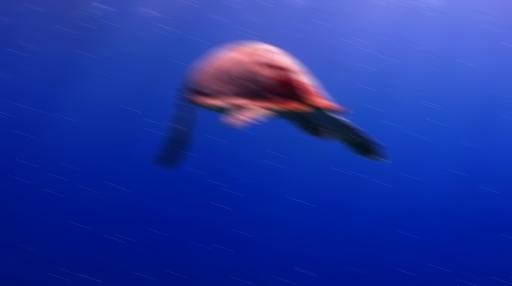Fish: (159, 41, 380, 167)
